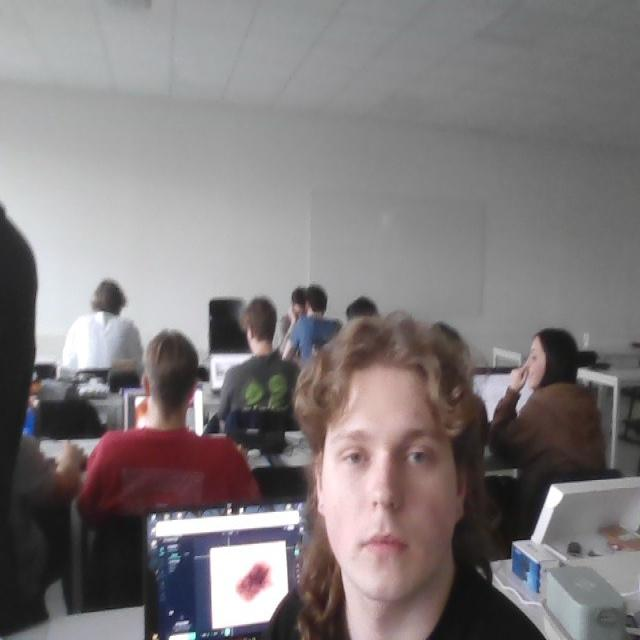opened_eye: (337, 444, 372, 469), (403, 445, 436, 471)
